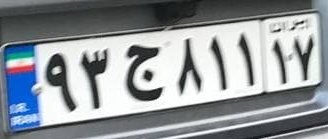character: (118, 39, 167, 104), (77, 44, 116, 112), (40, 48, 79, 113), (172, 33, 205, 99), (204, 30, 233, 95), (231, 30, 258, 90), (292, 32, 317, 82), (270, 38, 290, 86)
